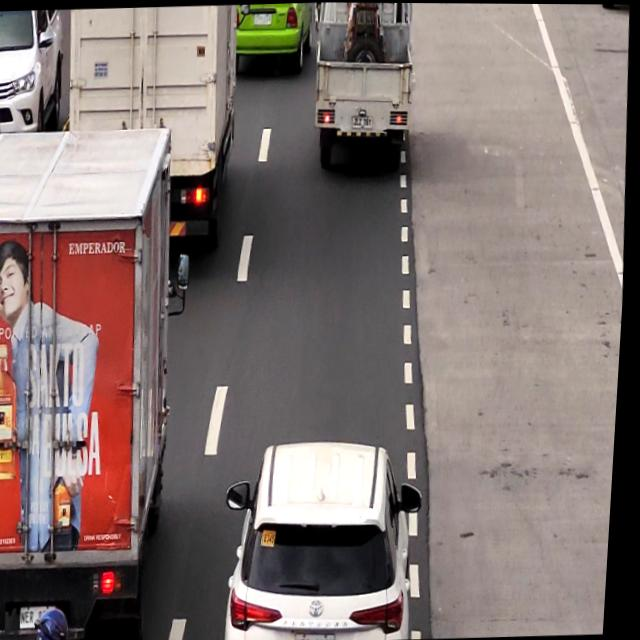Car: (238, 435, 423, 640)
License-Plate: (25, 604, 63, 626), (353, 111, 374, 130)
Truck: (0, 129, 192, 640), (65, 3, 240, 186), (311, 2, 417, 158)
